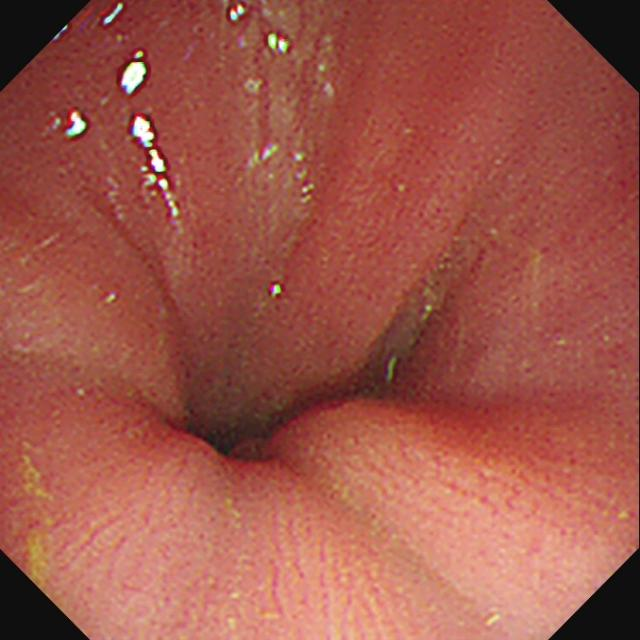I: (118, 299, 383, 503)
J: (15, 444, 64, 595)
U: (129, 111, 183, 218), (42, 105, 91, 143), (116, 51, 148, 96), (263, 34, 296, 58), (99, 2, 129, 27), (223, 2, 250, 25)
